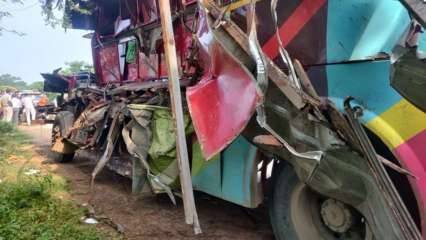accident: (39, 1, 426, 237)
